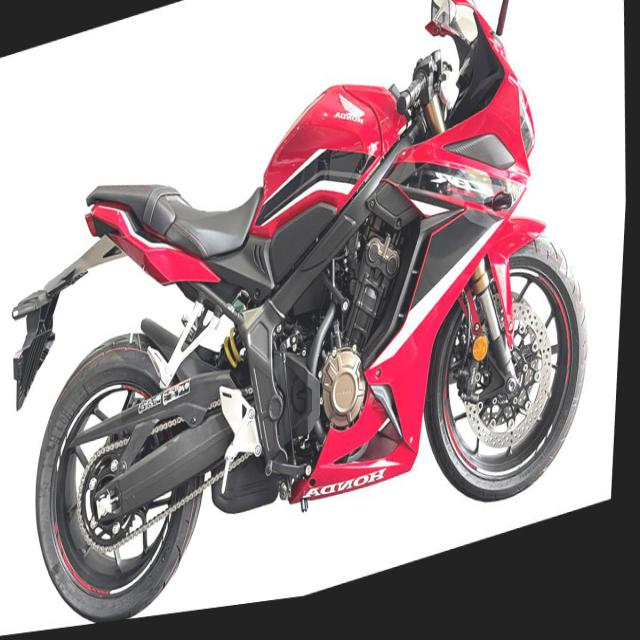CBR650R: (0, 0, 618, 638)
